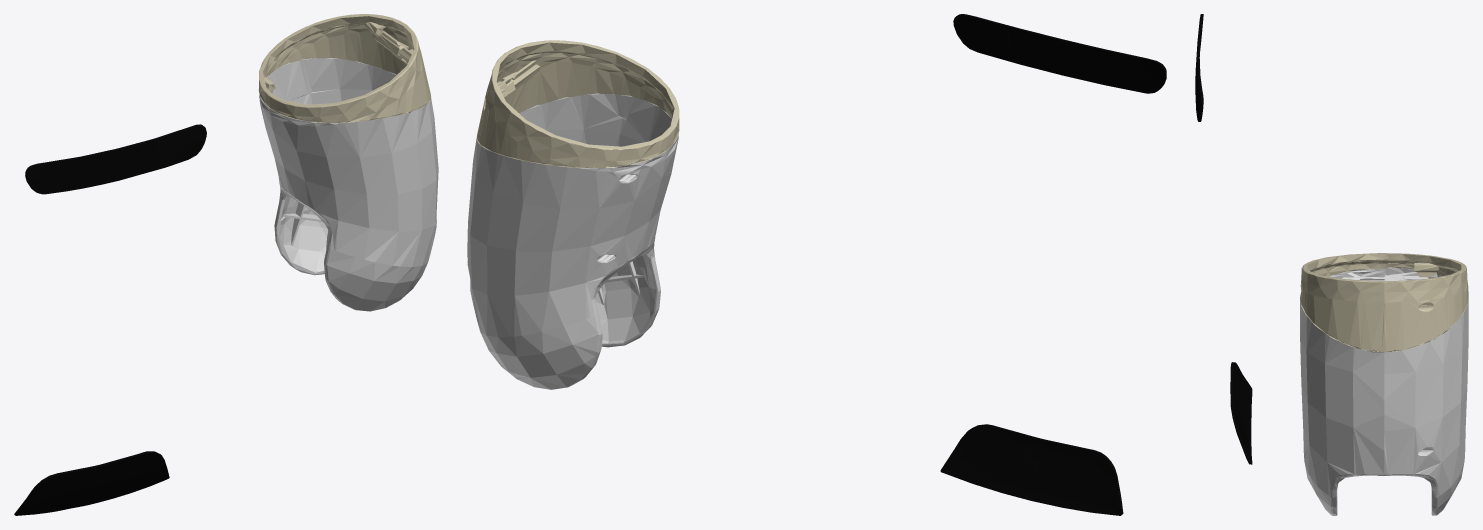
The model's file is walker_left_upper_arm.dae.
3 views of the same model, side by side, from view 1: azimuth 30°, elevation 25°; view 2: azimuth 150°, elevation 25°; view 3: azimuth 270°, elevation 25° (orthographic). The views are drawn at different scales.
Visible parts, largest first — view 1: Shape_IndexedFaceSet_182, Shape_IndexedFaceSet_181, Shape_IndexedFaceSet_232; view 2: Shape_IndexedFaceSet_182, Shape_IndexedFaceSet_232, Shape_IndexedFaceSet_181; view 3: Shape_IndexedFaceSet_182, Shape_IndexedFaceSet_181, Shape_IndexedFaceSet_232.
Part boxes in pixels (left/top/right/bottom): Shape_IndexedFaceSet_182: left=258, top=58, right=438, bottom=311; Shape_IndexedFaceSet_181: left=258, top=14, right=431, bottom=123; Shape_IndexedFaceSet_232: left=14, top=124, right=206, bottom=515; Shape_IndexedFaceSet_182: left=467, top=93, right=678, bottom=389; Shape_IndexedFaceSet_232: left=940, top=14, right=1166, bottom=515; Shape_IndexedFaceSet_181: left=476, top=40, right=679, bottom=168; Shape_IndexedFaceSet_182: left=1300, top=268, right=1468, bottom=515; Shape_IndexedFaceSet_181: left=1300, top=253, right=1468, bottom=352; Shape_IndexedFaceSet_232: left=1195, top=14, right=1252, bottom=464.
Size of the model in its own units: 0.4125 by 0.1968 by 0.3004.
